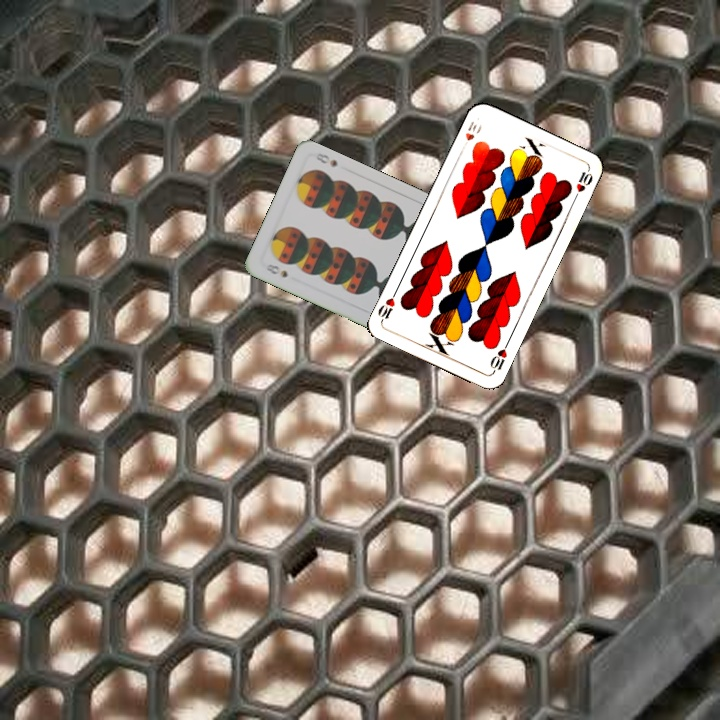H10: (486, 337, 512, 376), (458, 117, 484, 152)
S8: (261, 260, 290, 280)
